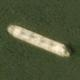ship: (2, 0, 77, 27)
